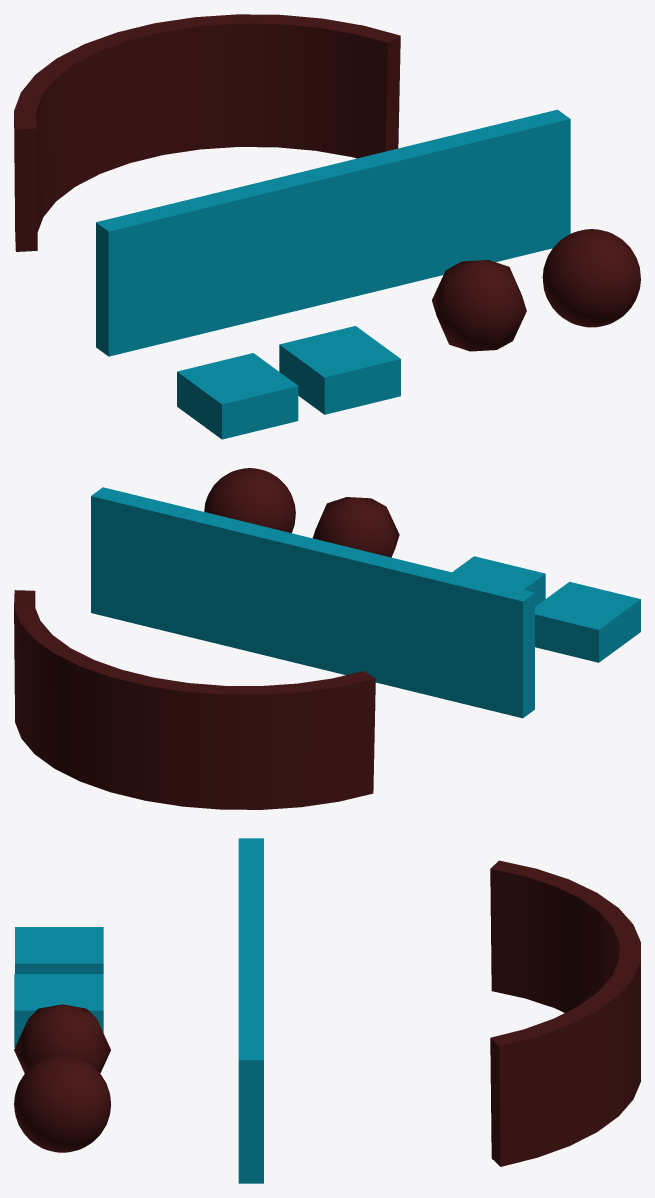
Rendered from test-primitives.fbx.
3 views of the same model, one above another, from view 1: azimuth 30°, elevation 25°; view 2: azimuth 150°, elevation 25°; view 3: azimuth 270°, elevation 25° (orthographic). The views are drawn at different scales.
Parts seen in each view (by area): view 1: Box003, Box004, Box002, Box001, Sphere002, Sphere001; view 2: Box003, Box004, Box001, Sphere002, Sphere001, Box002; view 3: Box004, Box003, Sphere002, Sphere001, Box001, Box002.
Part boxes in pixels (bbox=[...]): Box003: bbox=[96, 109, 570, 356]; Box004: bbox=[14, 14, 400, 251]; Box002: bbox=[279, 326, 400, 414]; Box001: bbox=[177, 353, 298, 439]; Sphere002: bbox=[542, 229, 640, 327]; Sphere001: bbox=[432, 260, 526, 351]; Box003: bbox=[91, 487, 534, 718]; Box004: bbox=[14, 590, 375, 809]; Box001: bbox=[535, 581, 640, 662]; Sphere002: bbox=[204, 468, 295, 532]; Sphere001: bbox=[313, 497, 399, 557]; Box002: bbox=[452, 556, 545, 606]; Box004: bbox=[490, 860, 640, 1166]; Box003: bbox=[238, 838, 263, 1183]; Sphere002: bbox=[14, 1055, 110, 1152]; Sphere001: bbox=[14, 1004, 110, 1073]; Box001: bbox=[15, 927, 103, 973]; Box002: bbox=[14, 974, 103, 1047].
Size of the model in its own units: 227 by 59.86 by 271.
